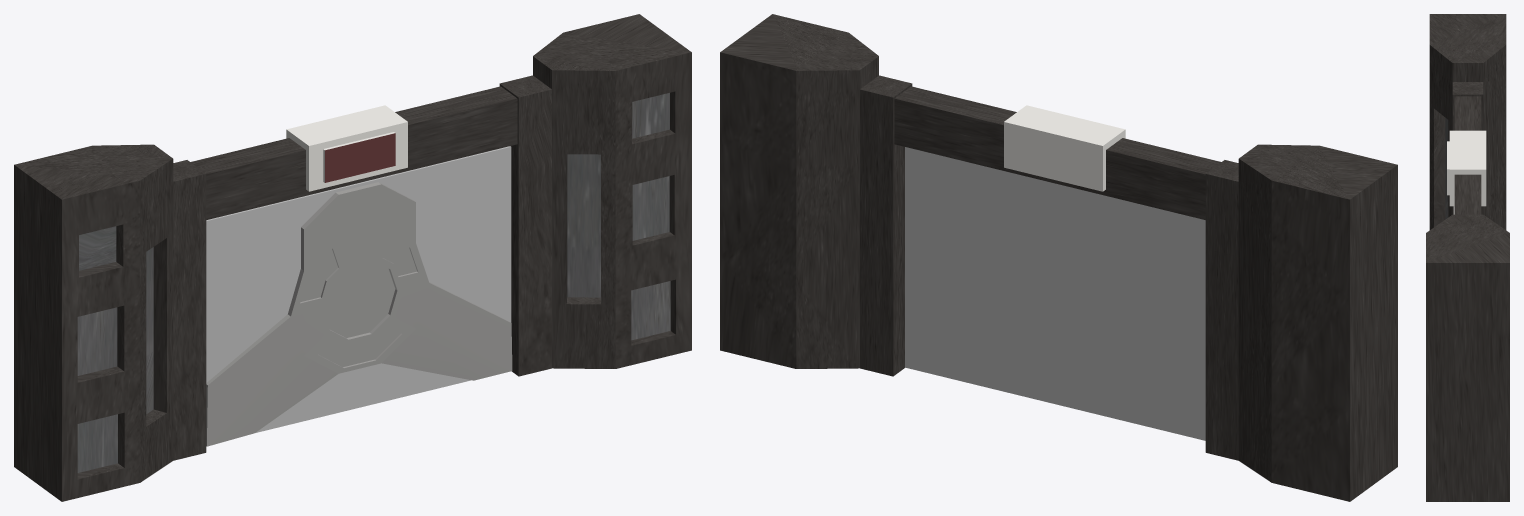
The model's file is NuclearGate.fbx.
3 views of the same model, side by side, from view 1: azimuth 30°, elevation 25°; view 2: azimuth 150°, elevation 25°; view 3: azimuth 270°, elevation 25° (orthographic). The views are drawn at different scales.
Parts seen in each view (by area): view 1: Pillar_Right, Pillar_Left, Decoration1, Gate, Suport_Top, Decoration; view 2: Gate, Pillar_Right, Pillar_Left, Suport_Top, Decoration; view 3: Pillar_Left, Pillar_Right, Decoration, Suport_Top.
Part boxes in pixels (x1,y1,x2,y2): Pillar_Right: (14, 144, 206, 501); Pillar_Left: (499, 14, 691, 376); Decoration1: (206, 182, 512, 446); Gate: (206, 146, 511, 432); Suport_Top: (190, 86, 517, 219); Decoration: (286, 105, 407, 191); Gate: (905, 147, 1205, 440); Pillar_Right: (1205, 144, 1397, 501); Pillar_Left: (720, 14, 912, 376); Suport_Top: (894, 86, 1221, 219); Decoration: (1004, 105, 1125, 191); Pillar_Left: (1426, 214, 1509, 501); Pillar_Right: (1429, 14, 1506, 229); Decoration: (1447, 130, 1486, 206); Suport_Top: (1454, 96, 1481, 214).
Size of the model in its own units: 0.1884 by 0.0867 by 0.0272.
2 materials, 2 textured.
